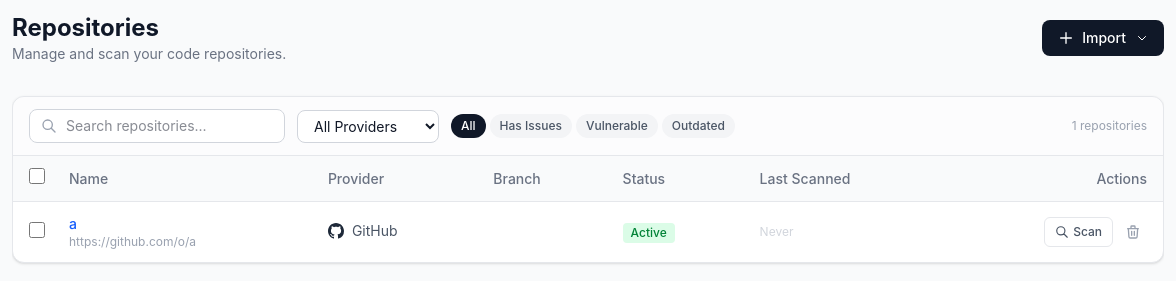
Scenario: Repositories › debounces search and ignores stale responses
The image size is (1176, 281).
Type "ap" into the field with placeholder "Search repositories..." at (157, 126), box left=29, top=109, right=285, bottom=143
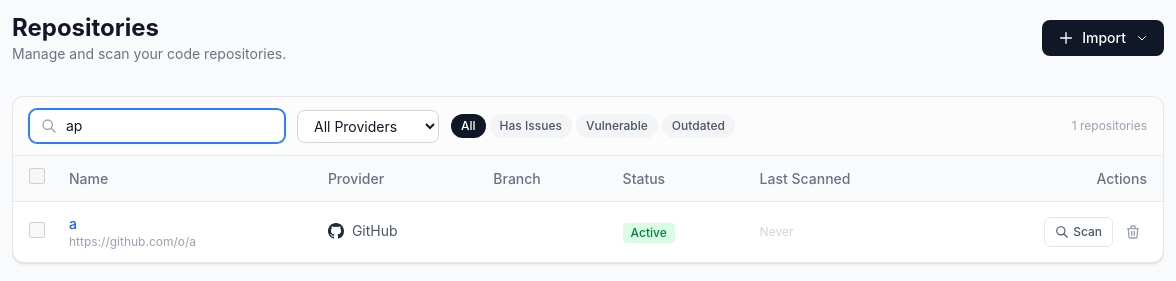
Type "i" into the field with placeholder "Search repositories..." at (157, 126), box left=29, top=109, right=285, bottom=143
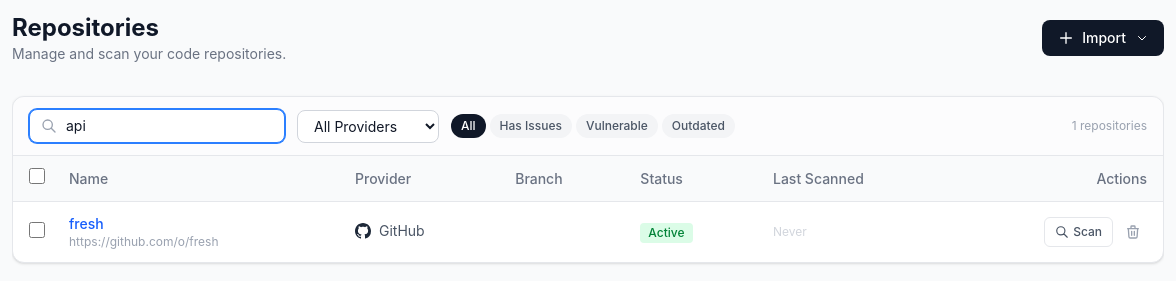
Check: the link "fresh" is shown, box left=69, top=215, right=104, bottom=232
